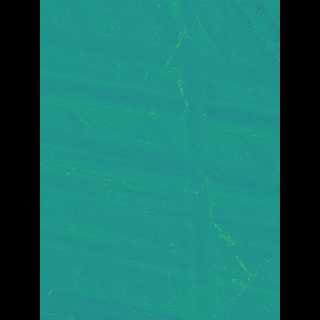Loch: (172, 0, 210, 320), (71, 181, 151, 319)
